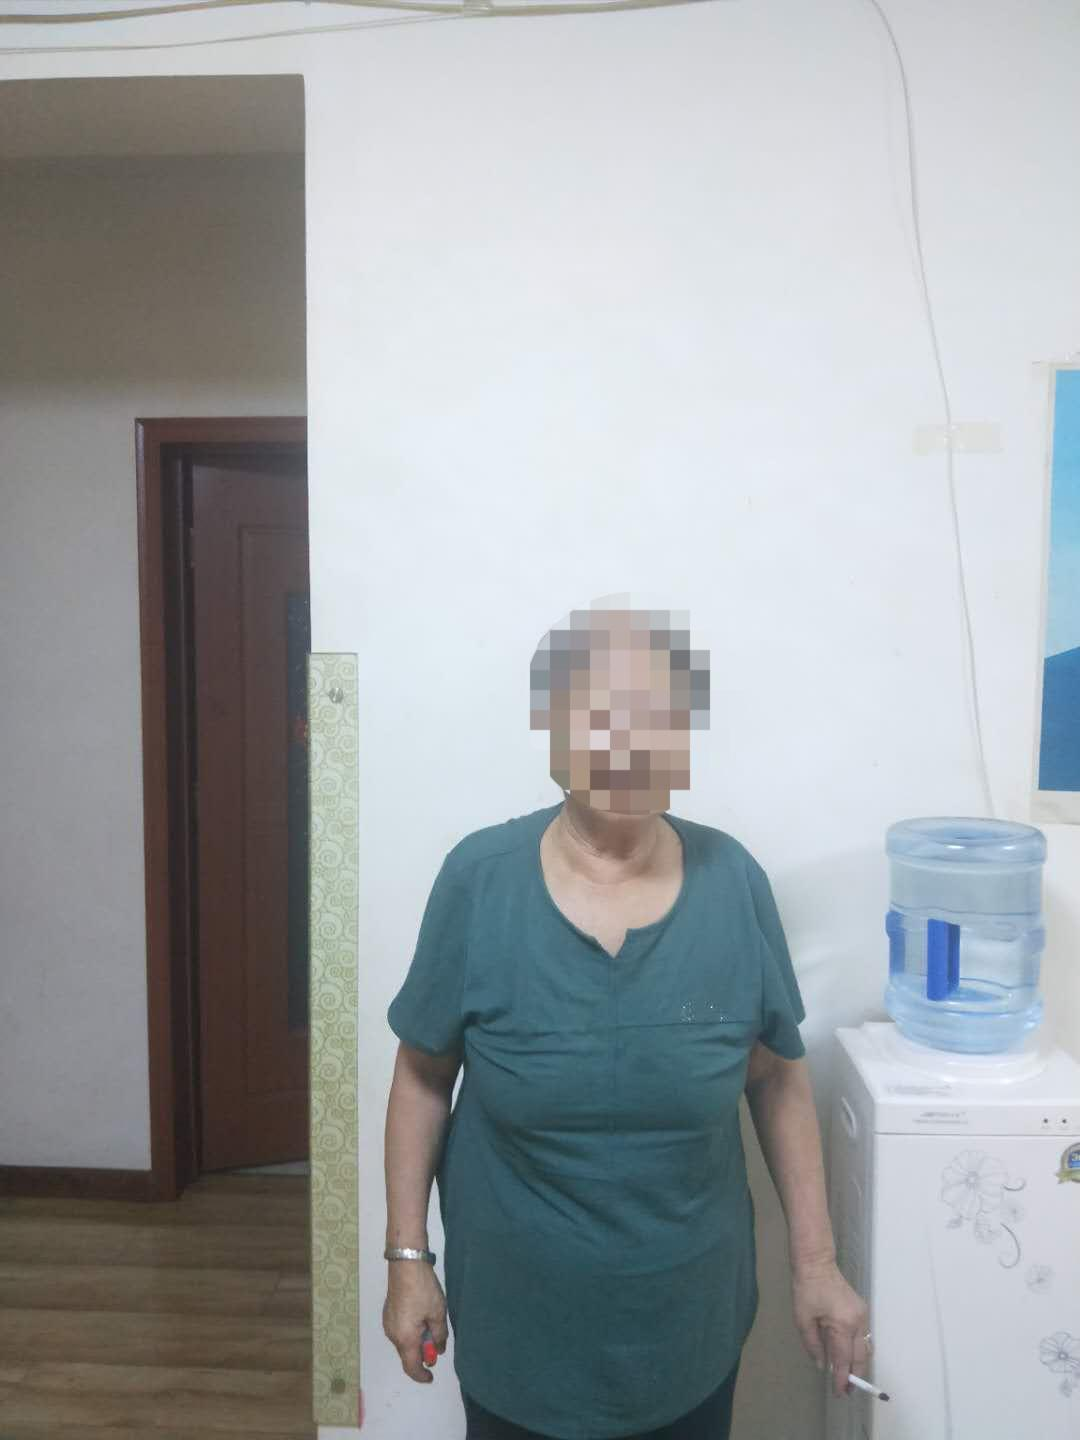smoke: (841, 1372, 892, 1404)
